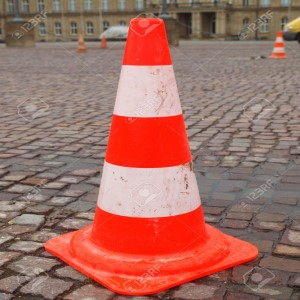traffic cone: (45, 17, 259, 296), (269, 32, 287, 59), (74, 33, 87, 52), (99, 35, 108, 49)
